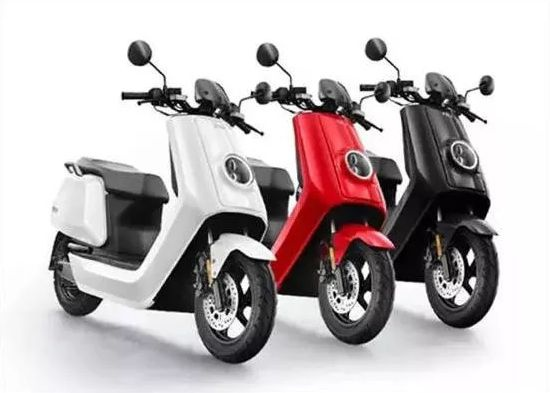non-vehicle: (49, 84, 272, 357), (260, 85, 395, 344), (379, 82, 499, 329)
